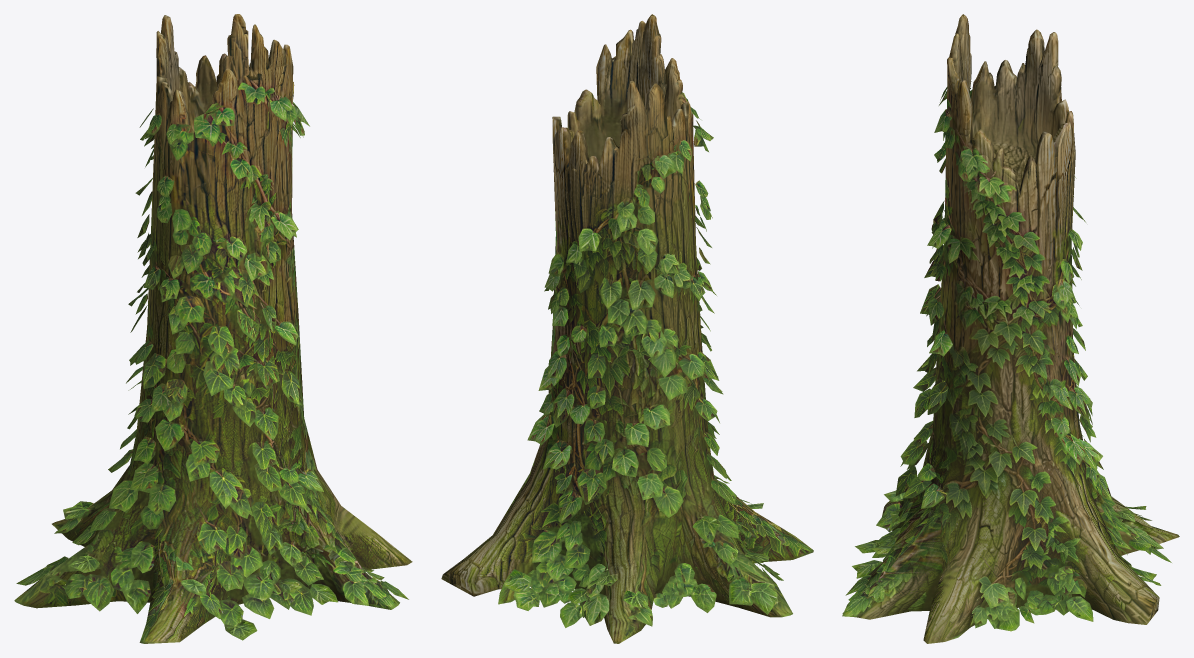
The model's file is SM_Env_SherwoodIvyStump.fbx.
3 views of the same model, side by side, from view 1: azimuth 30°, elevation 25°; view 2: azimuth 150°, elevation 25°; view 3: azimuth 270°, elevation 25° (orthographic). The views are drawn at different scales.
Visible parts, largest first — view 1: SM_Env_SherwoodIvyStump; view 2: SM_Env_SherwoodIvyStump; view 3: SM_Env_SherwoodIvyStump.
Boxes of the visible parts, left/top/right/bottom form: SM_Env_SherwoodIvyStump: left=14, top=14, right=412, bottom=643; SM_Env_SherwoodIvyStump: left=441, top=14, right=813, bottom=643; SM_Env_SherwoodIvyStump: left=842, top=14, right=1179, bottom=643.
Bounding box in the file's own units: 33.79 × 29.78 × 54.
Materials: 1 (1 with a texture image).
